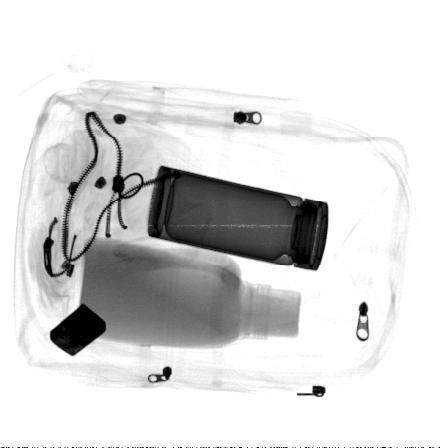Lighter: (49, 302, 107, 358)
